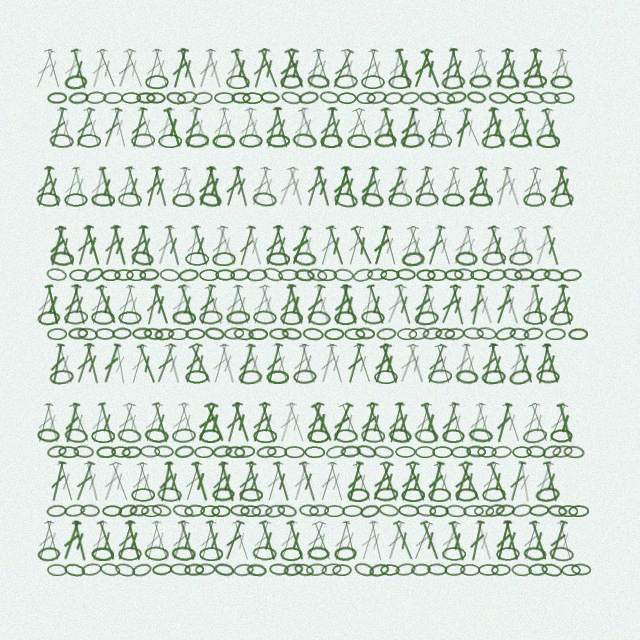chain: (130, 249, 155, 268), (333, 191, 359, 209), (549, 191, 575, 209), (522, 427, 548, 445), (198, 191, 223, 209), (360, 191, 385, 209), (508, 368, 533, 386), (82, 265, 105, 284), (306, 73, 331, 90), (292, 132, 317, 149), (400, 132, 425, 149), (252, 191, 277, 208), (144, 427, 169, 444), (468, 427, 493, 444), (535, 486, 560, 503), (64, 427, 88, 444), (388, 427, 412, 444), (441, 74, 466, 90), (49, 133, 74, 149), (481, 133, 506, 149), (414, 310, 439, 326), (549, 310, 574, 326), (49, 369, 74, 385), (238, 369, 263, 385), (481, 369, 506, 385), (117, 428, 142, 444), (414, 428, 439, 444), (549, 546, 574, 562), (522, 89, 545, 106), (494, 325, 517, 342), (64, 74, 88, 90), (496, 74, 520, 90), (293, 251, 317, 267), (401, 251, 425, 267), (37, 310, 61, 326), (307, 310, 331, 326), (455, 369, 479, 385), (37, 546, 61, 562), (523, 546, 547, 562), (36, 192, 61, 207), (157, 487, 182, 502), (144, 546, 169, 561), (171, 546, 196, 561), (252, 546, 277, 561), (262, 266, 284, 283), (355, 443, 377, 460), (541, 443, 563, 460), (117, 502, 139, 519), (484, 502, 506, 519), (353, 561, 375, 578), (280, 90, 303, 106), (63, 562, 86, 578), (540, 562, 563, 578), (334, 74, 358, 89), (523, 74, 547, 89), (131, 133, 155, 148), (185, 133, 209, 148), (428, 133, 452, 148), (118, 192, 142, 207), (388, 192, 412, 207), (415, 192, 439, 207), (50, 251, 74, 266), (482, 251, 506, 266), (509, 251, 533, 266), (64, 310, 88, 325), (91, 310, 115, 325), (172, 310, 196, 325), (199, 310, 223, 325), (226, 310, 250, 325), (253, 310, 277, 325), (361, 310, 385, 325), (293, 369, 317, 384), (428, 369, 452, 384), (536, 369, 560, 384), (172, 428, 196, 443), (361, 428, 385, 443), (374, 487, 398, 502), (482, 487, 506, 502), (165, 90, 187, 106), (399, 90, 421, 106), (418, 90, 440, 106), (434, 90, 456, 106), (306, 267, 328, 283), (352, 267, 374, 283), (325, 444, 347, 460), (172, 503, 194, 519), (264, 503, 286, 519), (276, 503, 298, 519), (359, 503, 381, 519), (114, 562, 136, 578), (131, 562, 153, 578), (293, 562, 315, 578), (368, 562, 390, 578), (280, 74, 303, 89), (469, 74, 492, 89), (374, 133, 397, 148), (523, 192, 546, 207), (455, 251, 478, 266), (37, 428, 60, 443), (212, 487, 235, 502), (307, 546, 330, 561), (334, 546, 357, 561), (145, 75, 169, 89), (226, 75, 250, 89), (361, 75, 385, 89), (388, 75, 412, 89), (77, 134, 101, 148), (158, 134, 182, 148), (239, 134, 263, 148), (266, 134, 290, 148), (347, 134, 371, 148), (536, 134, 560, 148), (64, 193, 88, 207), (91, 193, 115, 207), (469, 193, 493, 207), (185, 252, 209, 266), (212, 252, 236, 266), (266, 252, 290, 266), (118, 311, 142, 325), (523, 311, 547, 325), (185, 370, 209, 384), (374, 370, 398, 384), (91, 429, 115, 443), (253, 429, 277, 443), (334, 429, 358, 443), (131, 488, 155, 502), (239, 488, 263, 502), (401, 488, 425, 502), (118, 547, 142, 561), (199, 547, 223, 561), (442, 547, 466, 561), (496, 547, 520, 561), (176, 90, 198, 105), (408, 326, 430, 341), (46, 444, 68, 459), (64, 503, 86, 518), (511, 503, 533, 518), (99, 562, 121, 577), (213, 562, 235, 577), (550, 75, 573, 89), (212, 134, 235, 148), (320, 134, 343, 148), (509, 134, 532, 148), (172, 193, 195, 207), (442, 193, 465, 207), (280, 311, 303, 325), (334, 311, 357, 325), (266, 370, 289, 384), (199, 429, 222, 443), (307, 429, 330, 443), (442, 429, 465, 443), (550, 429, 573, 443), (347, 488, 370, 502), (428, 488, 451, 502), (455, 488, 478, 502), (91, 547, 114, 561), (280, 547, 303, 561), (298, 90, 319, 105), (319, 90, 340, 105), (366, 90, 387, 105), (446, 90, 467, 105), (466, 90, 487, 105), (46, 267, 67, 282), (502, 267, 523, 282), (530, 267, 551, 282), (204, 326, 225, 341), (422, 326, 443, 341), (476, 326, 497, 341), (523, 326, 544, 341), (174, 444, 195, 459), (212, 444, 233, 459), (552, 444, 573, 459), (151, 503, 172, 518), (378, 503, 399, 518), (495, 503, 516, 518), (81, 562, 102, 577), (283, 562, 304, 577), (321, 562, 342, 577), (395, 562, 416, 577), (246, 268, 268, 282), (560, 268, 582, 282), (302, 327, 324, 341), (563, 445, 585, 459), (445, 504, 467, 518), (68, 91, 89, 105), (192, 91, 213, 105), (383, 91, 404, 105), (488, 91, 509, 105), (539, 91, 560, 105), (159, 268, 180, 282), (178, 268, 199, 282), (294, 268, 315, 282), (333, 268, 354, 282), (486, 268, 507, 282), (543, 268, 564, 282), (77, 327, 98, 341), (143, 327, 164, 341), (154, 327, 175, 341), (233, 327, 254, 341), (281, 327, 302, 341), (376, 327, 397, 341), (444, 327, 465, 341), (509, 327, 530, 341), (121, 445, 142, 459), (256, 445, 277, 459), (373, 445, 394, 459), (491, 445, 512, 459), (46, 504, 67, 518), (547, 504, 568, 518), (233, 563, 254, 577), (246, 563, 267, 577), (511, 563, 532, 577), (85, 91, 107, 104), (251, 504, 273, 517), (444, 563, 466, 576), (463, 327, 484, 340), (73, 445, 94, 458), (234, 445, 255, 458), (340, 445, 361, 458), (129, 504, 150, 517), (184, 504, 205, 517), (398, 504, 419, 517), (170, 563, 191, 576), (306, 563, 327, 576), (260, 91, 280, 104), (139, 268, 159, 281), (230, 268, 250, 281), (367, 268, 387, 281), (396, 268, 416, 281), (454, 268, 474, 281), (514, 268, 534, 281), (68, 327, 88, 340), (112, 327, 132, 340), (132, 327, 152, 340), (224, 327, 244, 340), (355, 327, 375, 340), (140, 445, 160, 458), (154, 445, 174, 458), (466, 445, 486, 458), (526, 445, 546, 458), (80, 504, 100, 517), (230, 504, 250, 517), (299, 504, 319, 517), (309, 504, 329, 517), (416, 504, 436, 517), (529, 504, 549, 517), (152, 563, 172, 576), (184, 563, 204, 576), (195, 563, 215, 576), (269, 563, 289, 576), (411, 563, 431, 576), (427, 563, 447, 576), (528, 563, 548, 576), (571, 563, 591, 576), (214, 92, 235, 104), (242, 92, 263, 104), (554, 92, 575, 104), (278, 269, 299, 281), (168, 328, 189, 340), (344, 328, 365, 340), (545, 328, 566, 340), (58, 446, 79, 458), (284, 446, 305, 458), (304, 446, 325, 458), (395, 446, 416, 458), (432, 446, 453, 458), (141, 505, 162, 517), (240, 505, 261, 517), (324, 505, 345, 517), (342, 505, 363, 517), (463, 505, 484, 517), (568, 505, 589, 517), (478, 564, 499, 576), (47, 92, 67, 104), (103, 92, 123, 104), (121, 92, 141, 104), (136, 92, 156, 104), (146, 92, 166, 104), (231, 92, 251, 104), (337, 92, 357, 104), (356, 92, 376, 104), (508, 92, 528, 104), (69, 269, 89, 281), (101, 269, 121, 281), (114, 269, 134, 281), (126, 269, 146, 281), (199, 269, 219, 281), (215, 269, 235, 281), (317, 269, 337, 281), (380, 269, 400, 281), (416, 269, 436, 281), (427, 269, 447, 281), (444, 269, 464, 281), (470, 269, 490, 281), (47, 328, 67, 340), (95, 328, 115, 340), (185, 328, 205, 340), (248, 328, 268, 340), (269, 328, 289, 340), (324, 328, 344, 340), (397, 328, 417, 340), (435, 328, 455, 340), (568, 328, 588, 340), (96, 446, 116, 458), (111, 446, 131, 458), (194, 446, 214, 458), (225, 446, 245, 458), (267, 446, 287, 458), (415, 446, 435, 458), (451, 446, 471, 458), (477, 446, 497, 458), (512, 446, 532, 458), (102, 505, 122, 517), (200, 505, 220, 517), (211, 505, 231, 517), (429, 505, 449, 517), (474, 505, 494, 517), (558, 505, 578, 517), (47, 564, 67, 576), (332, 564, 352, 576), (380, 564, 400, 576), (460, 564, 480, 576), (491, 564, 511, 576), (561, 564, 581, 576)
double: (186, 342, 216, 385), (186, 106, 215, 149), (456, 106, 485, 149), (348, 224, 377, 267), (308, 401, 337, 444), (456, 460, 485, 503), (93, 47, 121, 90), (120, 47, 148, 90), (255, 47, 283, 90), (349, 106, 377, 149), (274, 165, 302, 208), (93, 283, 121, 326), (382, 283, 410, 326), (436, 283, 464, 326), (66, 401, 94, 444), (193, 401, 221, 444), (201, 401, 229, 444), (328, 401, 356, 444), (336, 401, 364, 444), (525, 401, 553, 444), (368, 460, 396, 503), (484, 460, 512, 503), (301, 519, 329, 562), (390, 519, 418, 562), (436, 519, 464, 562), (328, 48, 356, 90), (228, 47, 255, 90), (282, 47, 309, 90), (409, 47, 436, 90), (71, 106, 98, 149), (295, 106, 322, 149), (530, 106, 557, 149), (166, 165, 193, 208), (247, 165, 274, 208), (463, 165, 490, 208), (214, 224, 241, 267), (287, 224, 314, 267), (449, 224, 476, 267), (511, 224, 538, 267), (152, 342, 179, 385), (395, 342, 422, 385), (120, 401, 147, 444), (71, 460, 98, 503), (106, 460, 133, 503), (403, 460, 430, 503), (220, 519, 247, 562), (417, 519, 444, 562), (31, 48, 58, 90), (52, 225, 79, 267), (544, 402, 571, 444), (309, 520, 336, 562), (409, 520, 436, 562), (59, 47, 85, 90), (113, 47, 139, 90), (175, 47, 201, 90), (275, 47, 301, 90), (499, 47, 525, 90), (518, 47, 544, 90), (134, 106, 160, 149), (342, 106, 368, 149), (512, 106, 538, 149), (383, 165, 409, 208), (418, 165, 444, 208), (499, 165, 525, 208), (518, 165, 544, 208), (323, 224, 349, 267), (396, 224, 422, 267), (404, 224, 430, 267), (477, 224, 503, 267), (485, 224, 511, 267), (504, 224, 530, 267), (148, 283, 174, 326), (167, 283, 193, 326), (302, 283, 328, 326), (472, 283, 498, 326), (491, 283, 517, 326), (545, 283, 571, 326), (242, 342, 268, 385), (350, 342, 376, 385), (512, 342, 538, 385), (140, 401, 166, 444), (283, 401, 309, 444), (499, 401, 525, 444), (99, 460, 125, 503), (396, 460, 422, 503), (531, 460, 557, 503), (94, 519, 120, 562), (248, 519, 274, 562), (526, 519, 552, 562), (545, 519, 571, 562), (418, 48, 444, 90), (99, 107, 125, 149), (134, 343, 160, 385), (423, 343, 449, 385), (350, 461, 376, 503), (431, 461, 457, 503), (194, 47, 219, 90), (202, 47, 227, 90), (310, 47, 335, 90), (472, 47, 497, 90), (491, 47, 516, 90), (553, 47, 578, 90), (80, 106, 105, 149), (153, 106, 178, 149), (161, 106, 186, 149), (242, 106, 267, 149), (315, 106, 340, 149), (369, 106, 394, 149), (396, 106, 421, 149), (431, 106, 456, 149), (504, 106, 529, 149), (32, 165, 57, 208), (194, 165, 219, 208), (221, 165, 246, 208), (302, 165, 327, 208), (329, 165, 354, 208), (410, 165, 435, 208), (553, 165, 578, 208), (126, 224, 151, 267), (153, 224, 178, 267), (188, 224, 213, 267), (261, 224, 286, 267), (296, 224, 321, 267), (369, 224, 394, 267), (423, 224, 448, 267), (531, 224, 556, 267), (59, 283, 84, 326), (113, 283, 138, 326), (175, 283, 200, 326), (256, 283, 281, 326), (364, 283, 389, 326), (410, 283, 435, 326), (499, 283, 524, 326), (53, 342, 78, 385), (72, 342, 97, 385), (99, 342, 124, 385), (296, 342, 321, 385), (404, 342, 429, 385), (539, 342, 564, 385), (113, 401, 138, 444), (167, 401, 192, 444), (175, 401, 200, 444), (229, 401, 254, 444), (248, 401, 273, 444), (256, 401, 281, 444), (275, 401, 300, 444), (418, 401, 443, 444), (134, 460, 159, 503), (180, 460, 205, 503), (188, 460, 213, 503), (296, 460, 321, 503), (377, 460, 402, 503), (450, 460, 475, 503), (59, 519, 84, 562), (113, 519, 138, 562), (175, 519, 200, 562), (229, 519, 254, 562), (256, 519, 281, 562), (275, 519, 300, 562), (356, 519, 381, 562), (383, 519, 408, 562), (472, 519, 497, 562), (518, 519, 543, 562), (539, 107, 564, 149), (202, 284, 227, 326), (377, 343, 402, 385), (364, 402, 389, 444), (234, 461, 259, 503), (41, 47, 65, 90), (87, 47, 111, 90), (141, 47, 165, 90), (149, 47, 173, 90), (168, 47, 192, 90), (222, 47, 246, 90), (249, 47, 273, 90), (303, 47, 327, 90), (357, 47, 381, 90), (392, 47, 416, 90), (546, 47, 570, 90), (46, 106, 70, 149), (54, 106, 78, 149), (208, 106, 232, 149), (216, 106, 240, 149), (235, 106, 259, 149), (378, 106, 402, 149), (486, 106, 510, 149), (41, 165, 65, 208), (114, 165, 138, 208), (122, 165, 146, 208), (284, 165, 308, 208), (311, 165, 335, 208), (357, 165, 381, 208), (392, 165, 416, 208), (438, 165, 462, 208), (473, 165, 497, 208), (546, 165, 570, 208), (73, 224, 97, 267), (81, 224, 105, 267), (100, 224, 124, 267), (243, 224, 267, 267), (270, 224, 294, 267), (343, 224, 367, 267), (432, 224, 456, 267), (540, 224, 564, 267), (33, 283, 57, 326), (195, 283, 219, 326), (222, 283, 246, 326), (230, 283, 254, 326), (249, 283, 273, 326), (284, 283, 308, 326), (311, 283, 335, 326), (330, 283, 354, 326), (338, 283, 362, 326), (392, 283, 416, 326), (181, 342, 205, 385), (208, 342, 232, 385), (216, 342, 240, 385), (262, 342, 286, 385), (316, 342, 340, 385), (324, 342, 348, 385), (343, 342, 367, 385), (370, 342, 394, 385), (459, 342, 483, 385), (505, 342, 529, 385), (95, 401, 119, 444), (149, 401, 173, 444), (222, 401, 246, 444), (303, 401, 327, 444), (357, 401, 381, 444), (411, 401, 435, 444), (438, 401, 462, 444), (465, 401, 489, 444), (519, 401, 543, 444), (54, 460, 78, 503), (162, 460, 186, 503), (262, 460, 286, 503), (270, 460, 294, 503), (289, 460, 313, 503), (316, 460, 340, 503), (324, 460, 348, 503), (343, 460, 367, 503), (478, 460, 502, 503), (505, 460, 529, 503), (33, 519, 57, 562), (122, 519, 146, 562), (149, 519, 173, 562), (168, 519, 192, 562), (195, 519, 219, 562), (284, 519, 308, 562), (500, 519, 524, 562), (338, 47, 361, 90), (438, 47, 461, 90), (446, 47, 469, 90), (527, 47, 550, 90), (108, 106, 131, 149), (127, 106, 150, 149), (181, 106, 204, 149), (262, 106, 285, 149), (270, 106, 293, 149), (405, 106, 428, 149), (478, 106, 501, 149), (87, 165, 110, 208), (149, 165, 172, 208), (203, 165, 226, 208), (230, 165, 253, 208), (257, 165, 280, 208), (338, 165, 361, 208), (365, 165, 388, 208), (492, 165, 515, 208), (108, 224, 131, 267), (162, 224, 185, 267), (208, 224, 231, 267), (378, 224, 401, 267), (68, 283, 91, 326), (276, 283, 299, 326), (419, 283, 442, 326), (81, 342, 104, 385), (162, 342, 185, 385), (270, 342, 293, 385), (289, 342, 312, 385), (451, 342, 474, 385), (478, 342, 501, 385), (41, 401, 64, 444), (392, 401, 415, 444), (81, 460, 104, 503), (243, 460, 266, 503), (424, 460, 447, 503), (540, 460, 563, 503), (41, 519, 64, 562), (203, 519, 226, 562), (492, 519, 515, 562), (68, 48, 91, 90), (465, 48, 488, 90), (60, 166, 83, 208), (446, 166, 469, 208), (527, 166, 550, 208), (46, 225, 69, 267), (235, 225, 258, 267), (316, 225, 339, 267), (87, 284, 110, 326), (127, 343, 150, 385), (235, 343, 258, 385), (432, 343, 455, 385), (486, 343, 509, 385), (33, 402, 56, 444), (446, 402, 469, 444), (473, 402, 496, 444), (492, 402, 515, 444), (554, 402, 577, 444), (216, 461, 239, 503), (330, 520, 353, 562), (446, 520, 469, 562), (554, 520, 577, 562), (385, 47, 407, 90), (290, 106, 312, 149), (325, 106, 347, 149), (69, 165, 91, 208), (177, 165, 199, 208), (182, 224, 204, 267), (42, 283, 64, 326), (520, 283, 542, 326), (47, 460, 69, 503), (339, 519, 361, 562), (366, 48, 388, 90), (425, 107, 447, 149), (452, 107, 474, 149), (96, 166, 118, 208), (142, 166, 164, 208), (123, 284, 145, 326), (142, 284, 164, 326), (447, 284, 469, 326), (555, 284, 577, 326), (61, 402, 83, 444), (385, 402, 407, 444), (128, 461, 150, 503), (209, 461, 231, 503), (69, 520, 91, 562), (88, 520, 110, 562), (142, 520, 164, 562), (466, 520, 488, 562), (136, 225, 157, 267), (528, 284, 549, 326), (47, 343, 68, 385), (533, 343, 554, 385), (88, 402, 109, 444), (366, 520, 387, 562), (461, 225, 481, 267), (467, 284, 487, 326), (110, 343, 130, 385), (156, 461, 176, 503), (515, 461, 535, 503), (359, 284, 378, 326)
